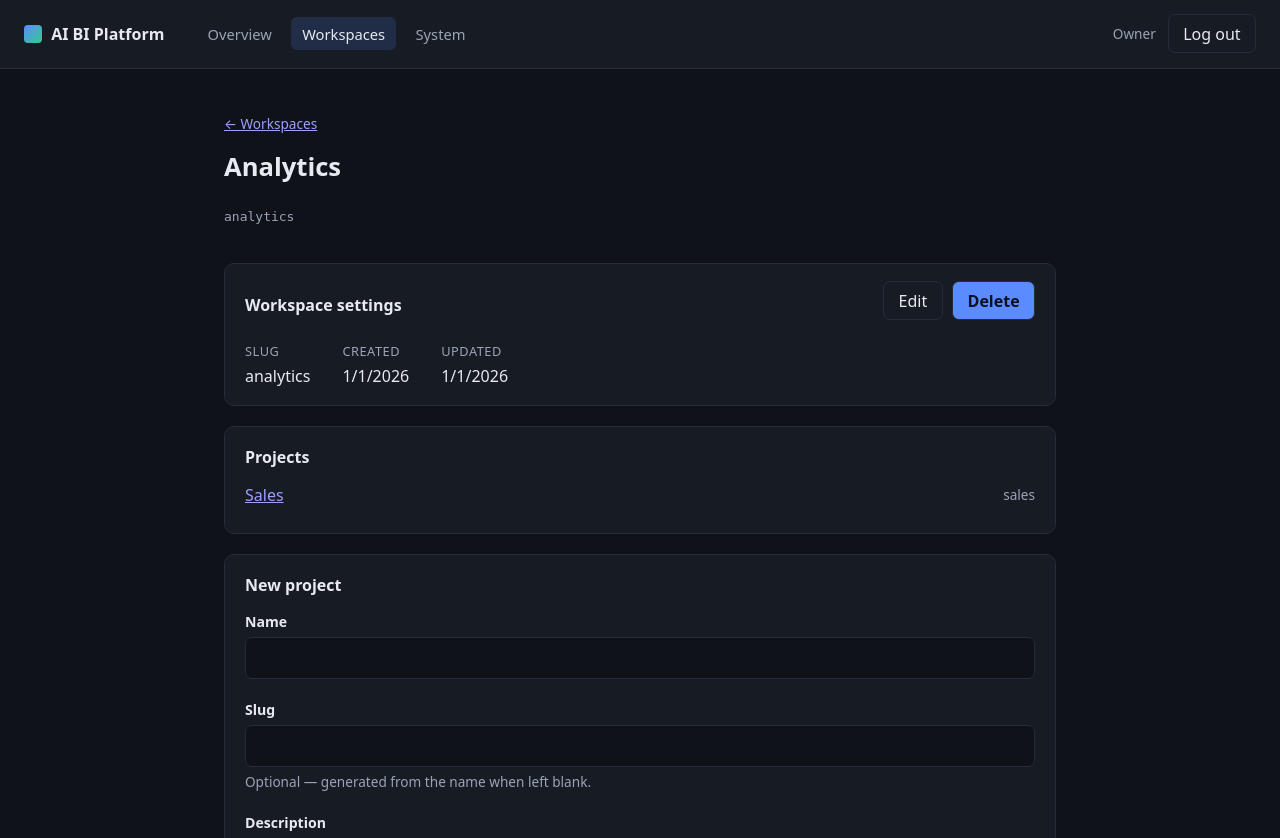
WorkspaceDetailPage › asks for confirmation before deleting and can be cancelled
Expected: the heading "Analytics" is shown, [224,149,341,184]
Click the button "Delete": [994, 300] box [952,281,1035,320]
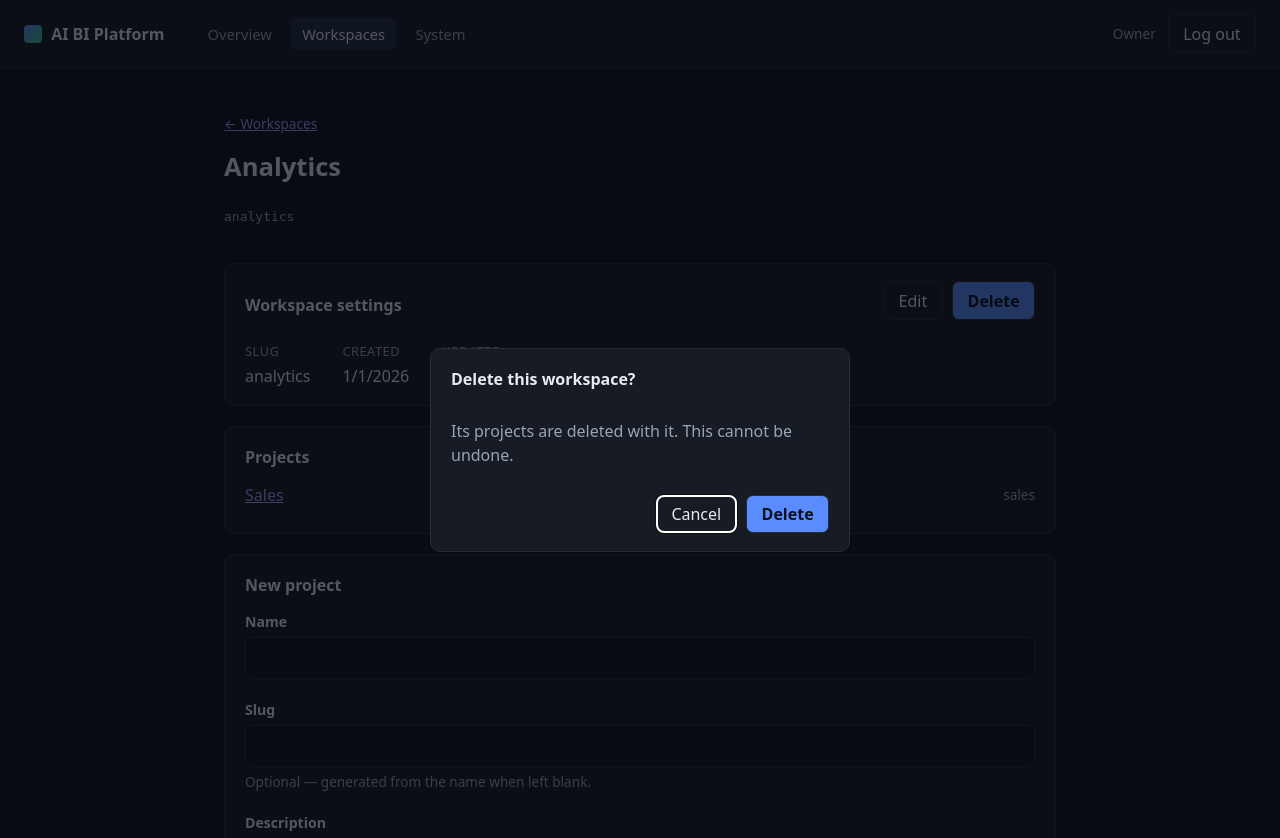
Result: the dialog shows "Delete this workspace?" at [451,368,636,390]
Click the button "Cancel": [696, 514] box [656,495,737,533]
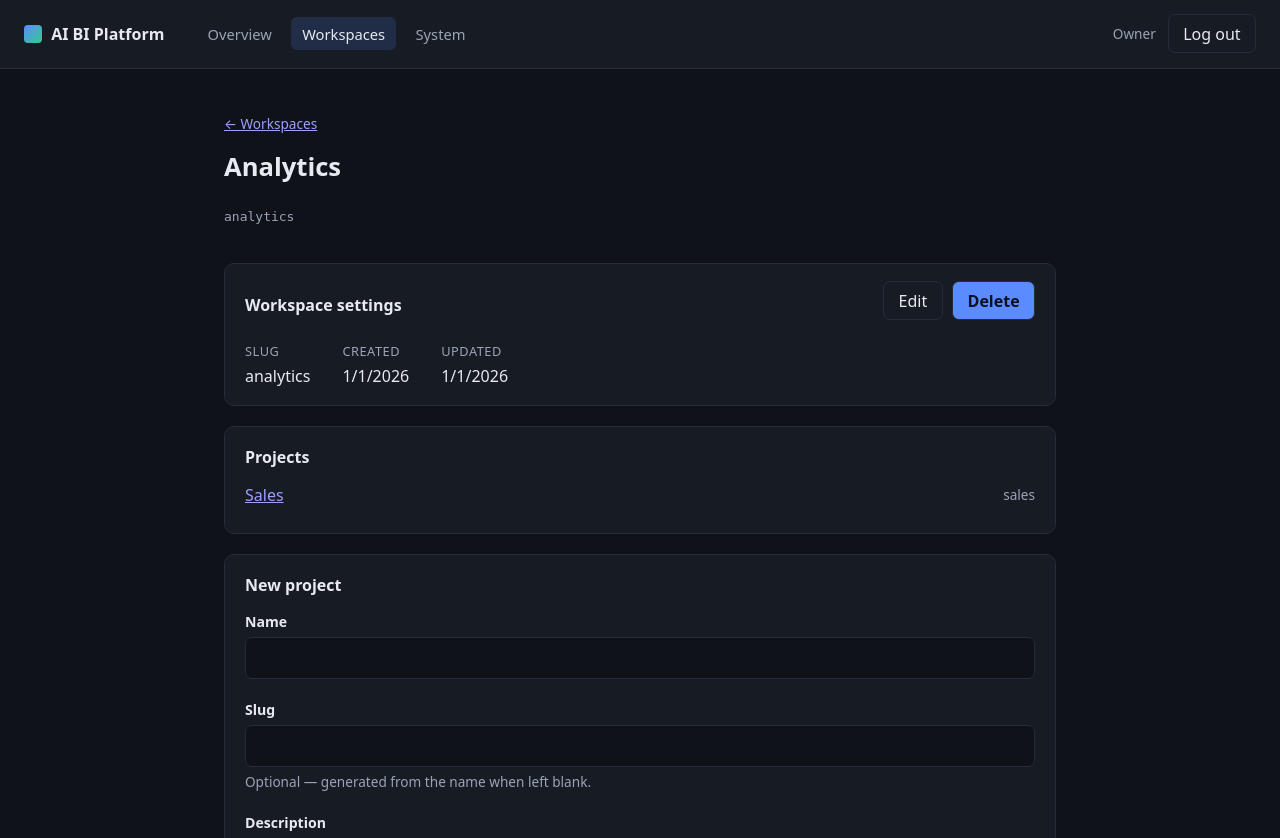
Result: the dialog is gone
